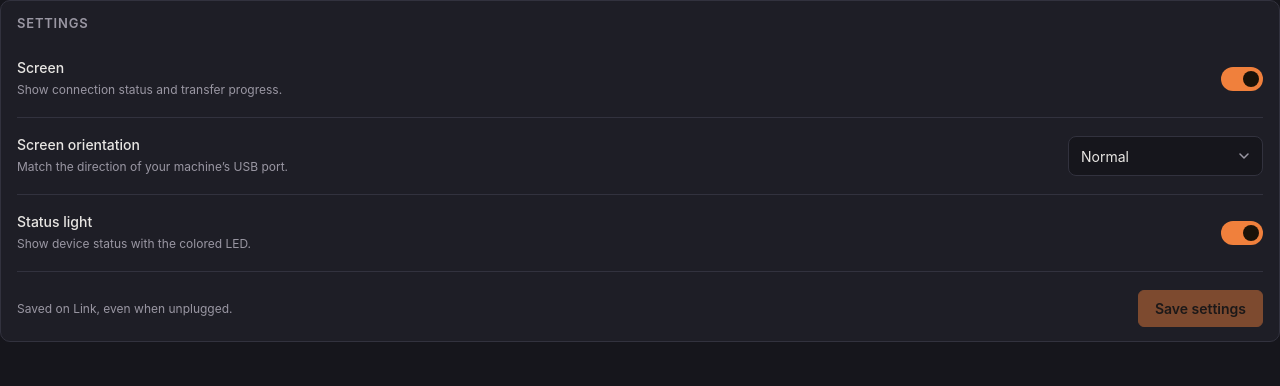
it: first Screen on edit survives settings initialization
Click the switch named "Screen on".
click(1242, 79)  # box [1221,67,1263,91]
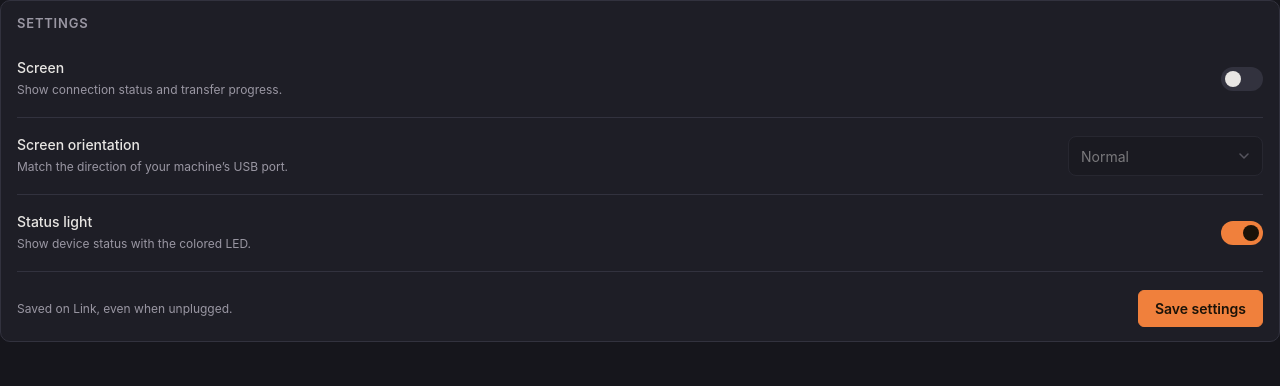
Check: the button "Save settings" is enabled
Click the button "Save settings".
click(1200, 308)  # box [1138,290,1263,327]
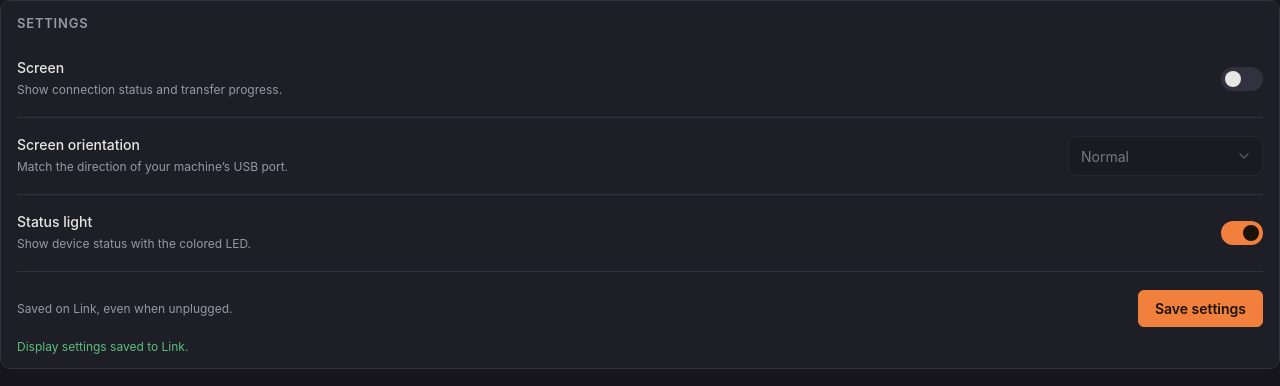
Check: the text "Display settings saved to Link." is shown, box [17,339,188,354]
